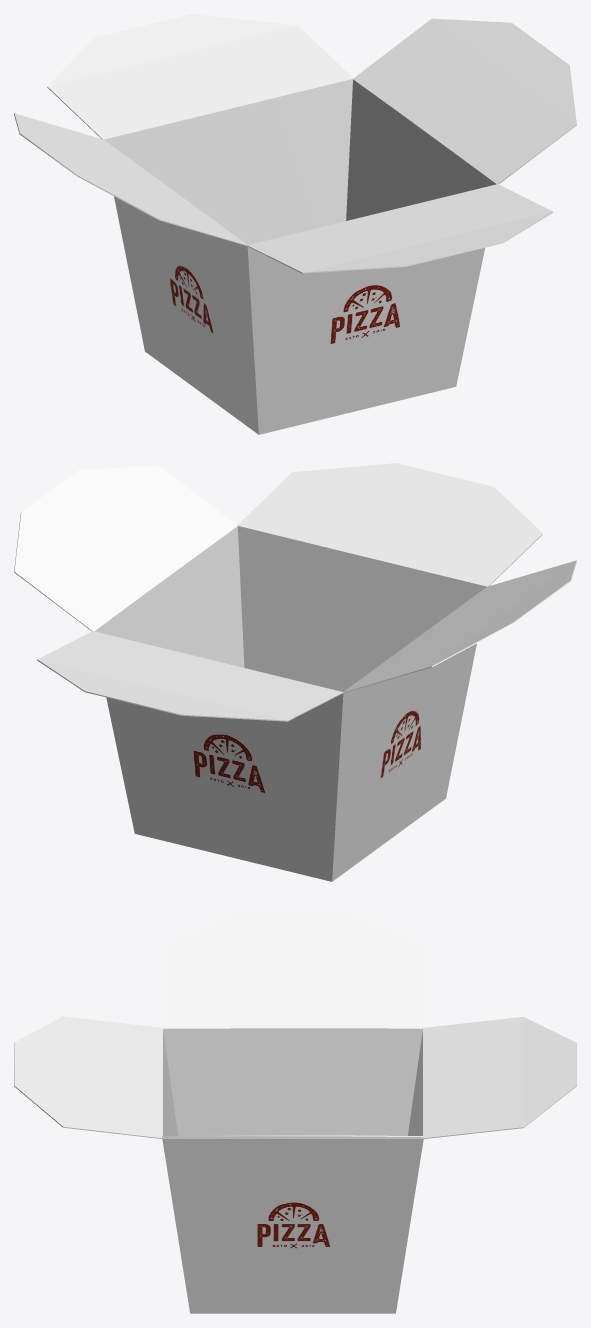
The model's file is chinabox3.fbx.
3 renders of one model, top to bottom at view 1: azimuth 30°, elevation 25°; view 2: azimuth 150°, elevation 25°; view 3: azimuth 270°, elevation 25°, orthographic. The views are drawn at different scales.
Visible parts, largest first — view 1: ChinaFood; view 2: ChinaFood; view 3: ChinaFood.
Boxes of the visible parts, x1,y1,x2,y2 form: ChinaFood: (14,14,576,434); ChinaFood: (14,463,576,881); ChinaFood: (14,910,576,1313).
Bounding box in the file's own units: 99.86 × 53.48 × 109.
